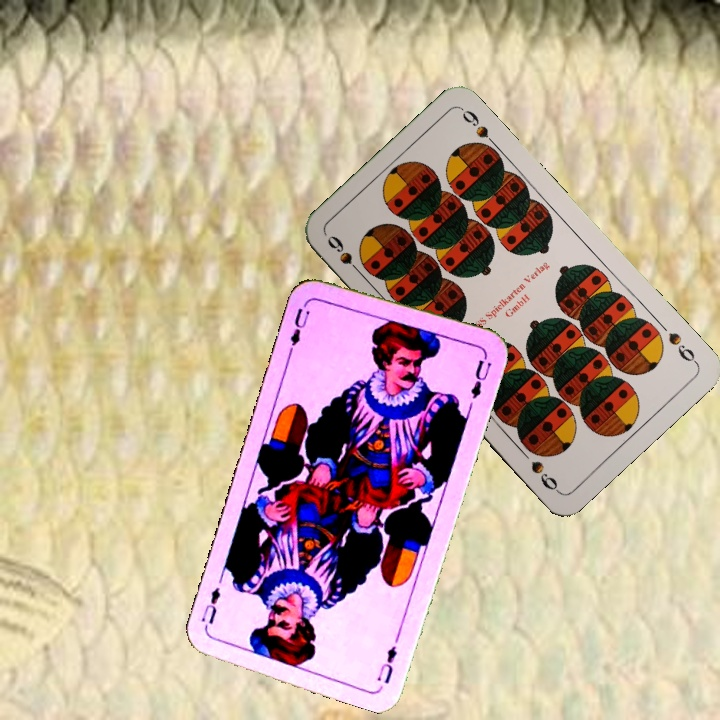EU: (285, 304, 312, 355), (372, 641, 400, 687)
S9: (323, 231, 367, 280), (664, 328, 700, 367)
